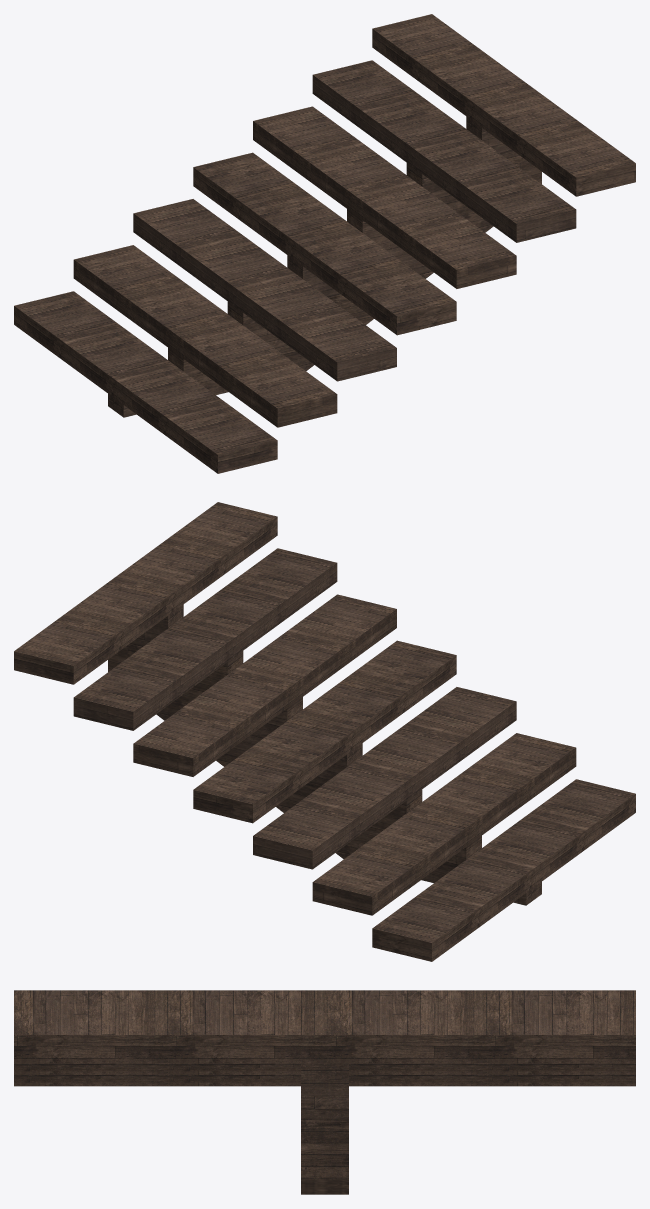
The model's file is Soupnewstairs008.glb.
3 renders of one model, top to bottom at view 1: azimuth 30°, elevation 25°; view 2: azimuth 150°, elevation 25°; view 3: azimuth 270°, elevation 25°, orthographic. The views are drawn at different scales.
Visible parts, largest first — view 1: Soupnewstairs008_high_1; view 2: Soupnewstairs008_high_1; view 3: Soupnewstairs008_high_1.
Part boxes in pixels (x1,y1,x2,y2): Soupnewstairs008_high_1: [14, 14, 635, 473]; Soupnewstairs008_high_1: [14, 502, 635, 961]; Soupnewstairs008_high_1: [14, 990, 635, 1194].
Bounding box in the file's own units: 2.6 × 1.32 × 2.2.
Materials: 1 (1 with a texture image).
